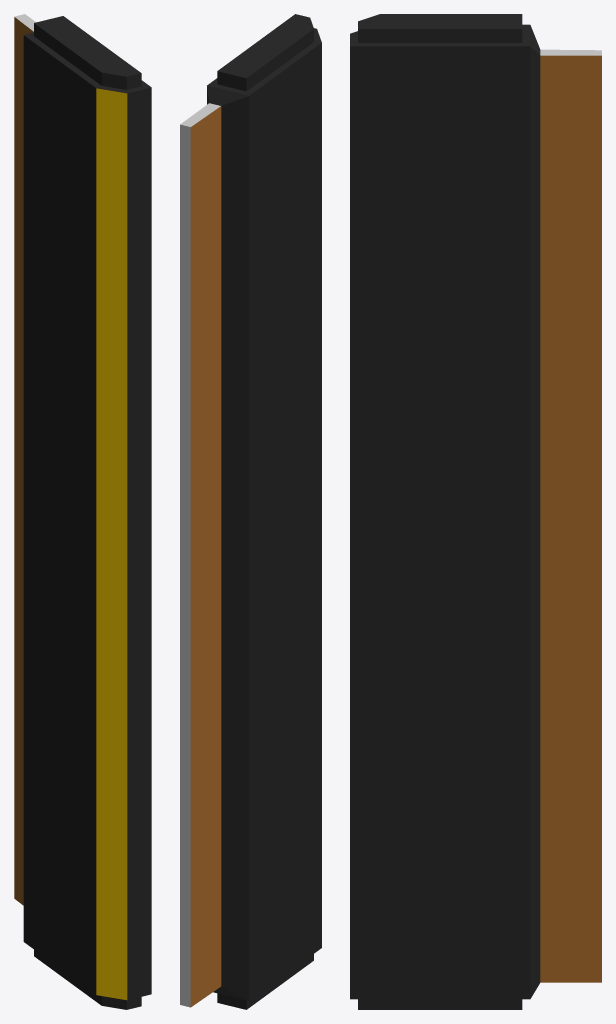
The model's file is Memoria RAM.fbx.
3 renders of one model, left to right at view 1: azimuth 30°, elevation 25°; view 2: azimuth 150°, elevation 25°; view 3: azimuth 270°, elevation 25°, orthographic. The views are drawn at different scales.
Visible parts, largest first — view 1: Memoria RAM; view 2: Memoria RAM; view 3: Memoria RAM.
Part boxes in pixels (bbox=[...]): Memoria RAM: bbox=[14, 14, 151, 1009]; Memoria RAM: bbox=[180, 14, 321, 1009]; Memoria RAM: bbox=[350, 14, 601, 1009].
Bounding box in the file's own units: 9.38 × 197 × 45.93.
